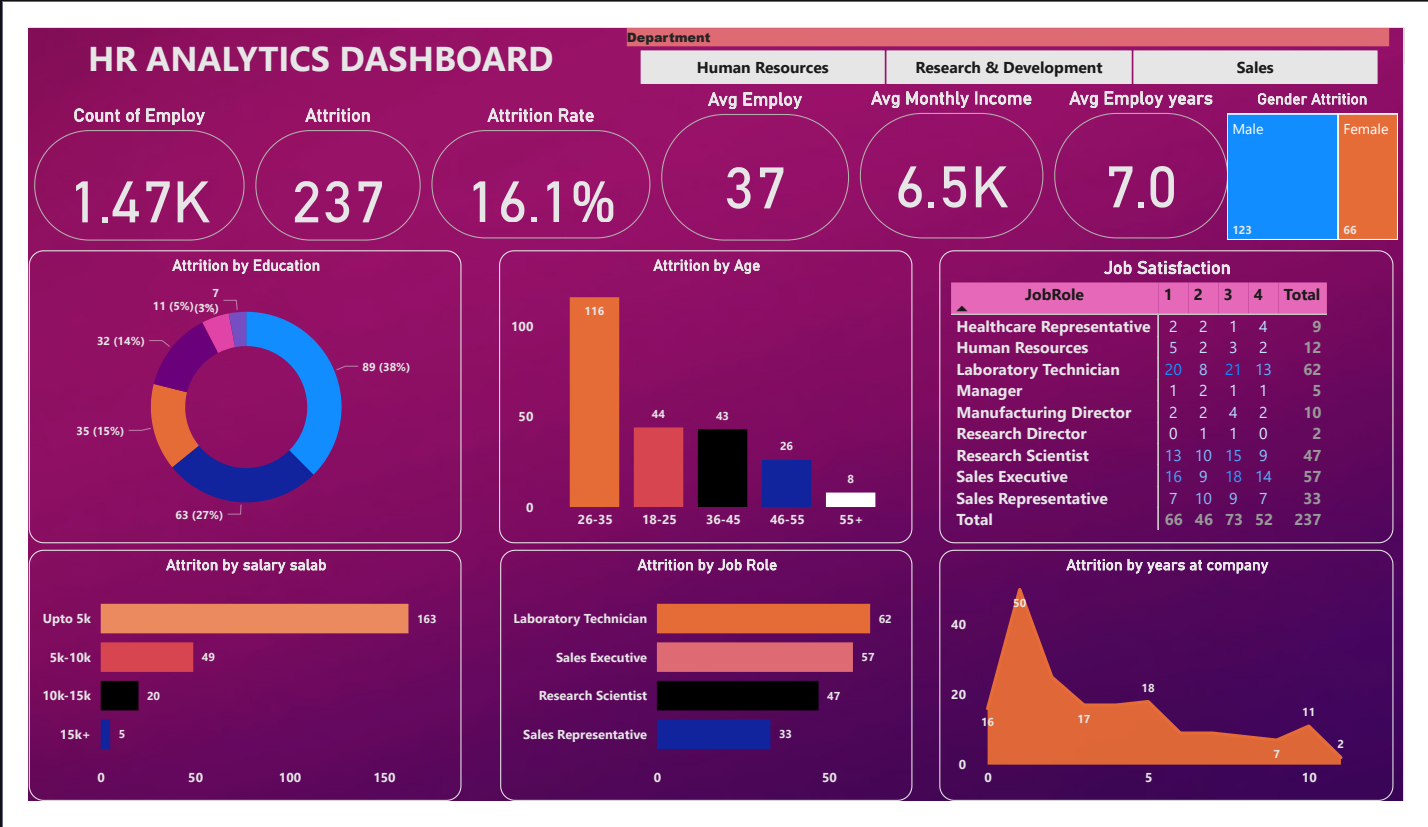

The dashboard page shown, as its layout file describes it:
{"tool":"powerbi","page":{"name":"Page 1","canvas":[1280,720],"ordinal":0},"visuals":[{"type":"cardVisual","title":"Count of Employ","fields":{"Data":["CountNonNull(HR_Analytics.EmployeeCount)"]},"box":[0,70.9,206.2,132.7],"z":0},{"type":"cardVisual","title":"Attrition Rate","fields":{"Data":["HR_Analytics.AttritionRate"]},"box":[370.3,70.9,213.5,131.5],"z":1000},{"type":"cardVisual","title":"Attrition","fields":{"Data":["Sum(HR_Analytics.attritioncount)"]},"box":[206.2,70.9,164,132.7],"z":2000},{"type":"cardVisual","title":"Avg Employ years","fields":{"Data":["Avg(HR_Analytics.YearsAtCompany)"]},"box":[950.4,55.2,171.3,147.1],"z":3000},{"type":"cardVisual","title":"Avg Employ","fields":{"Data":["Avg(HR_Analytics.Age)"]},"box":[583.7,56.4,185.7,147.1],"z":4000},{"type":"cardVisual","title":"Avg Monthly Income","fields":{"Data":["Avg(HR_Analytics.MonthlyIncome)"]},"box":[769.4,55.2,180.9,147.1],"z":5000},{"type":"donutChart","title":"Attrition by Education","fields":{"Category":["HR_Analytics.EducationField"],"Y":["Sum(HR_Analytics.attritioncount)"]},"box":[0,207.4,402.8,272.6],"z":6000},{"type":"columnChart","title":"Attrition by Age","fields":{"Category":["HR_Analytics.AgeGroup"],"Y":["Sum(HR_Analytics.attritioncount)"]},"box":[437.8,207.4,384.7,272.6],"z":7000},{"type":"pivotTable","title":"Job Satisfaction ","fields":{"Rows":["HR_Analytics.JobRole"],"Columns":["HR_Analytics.JobSatisfaction"],"Values":["Sum(HR_Analytics.attritioncount)"]},"box":[847.8,207.4,423.3,272.6],"z":8000},{"type":"clusteredBarChart","title":"Attriton by salary salab","fields":{"Category":["HR_Analytics.SalarySlab"],"Y":["Sum(HR_Analytics.attritioncount)"]},"box":[0,486,402.8,234],"z":9000},{"type":"clusteredBarChart","title":"Attrition by Job Role","fields":{"Category":["HR_Analytics.JobRole"],"Y":["Sum(HR_Analytics.attritioncount)"]},"box":[439,486,383.5,234],"z":10000},{"type":"areaChart","title":"Attrition by years at company","fields":{"Category":["HR_Analytics.YearsAtCompany"],"Y":["Sum(HR_Analytics.attritioncount)"]},"box":[847.8,486,423.3,234],"z":11000},{"type":"treemap","title":"Gender Attrition","fields":{"Group":["HR_Analytics.Gender"],"Values":["Sum(HR_Analytics.attritioncount)"]},"box":[1110.8,57.6,168.8,144.7],"z":12000},{"type":"textbox","box":[0,0,500.5,57.9],"z":13000},{"type":"slicer","fields":{"Values":["HR_Analytics.Department"]},"box":[543.9,0,735.7,55.5],"z":14000}]}

Visuals, with their boxes in screenshot pixels (x1, y1, x2, y2), scaled from the page's 1280x720 canvas onto the 1428x827 screenshot:
"Count of Employ" cardVisual: rect(0, 81, 230, 234)
"Attrition Rate" cardVisual: rect(413, 81, 651, 232)
"Attrition" cardVisual: rect(230, 81, 413, 234)
"Avg Employ years" cardVisual: rect(1060, 63, 1251, 232)
"Avg Employ" cardVisual: rect(651, 65, 858, 234)
"Avg Monthly Income" cardVisual: rect(858, 63, 1060, 232)
"Attrition by Education" donutChart: rect(0, 238, 449, 551)
"Attrition by Age" columnChart: rect(488, 238, 918, 551)
"Job Satisfaction " pivotTable: rect(946, 238, 1418, 551)
"Attriton by salary salab" clusteredBarChart: rect(0, 558, 449, 826)
"Attrition by Job Role" clusteredBarChart: rect(490, 558, 918, 826)
"Attrition by years at company" areaChart: rect(946, 558, 1418, 826)
"Gender Attrition" treemap: rect(1239, 66, 1427, 232)
textbox: rect(0, 0, 558, 67)
slicer - HR_Analytics.Department: rect(607, 0, 1427, 64)
